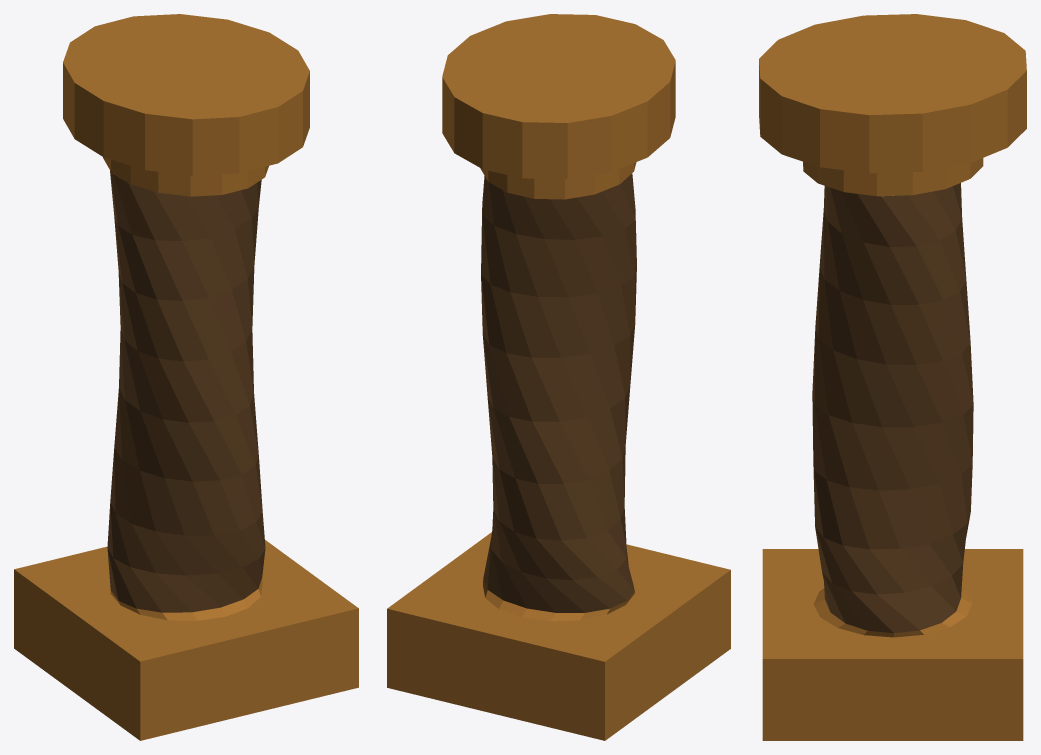
Rendered from Pillar_1.fbx.
3 renders of one model, left to right at view 1: azimuth 30°, elevation 25°; view 2: azimuth 150°, elevation 25°; view 3: azimuth 270°, elevation 25°, orthographic. The views are drawn at different scales.
Visible parts, largest first — view 1: pCube1; view 2: pCube1; view 3: pCube1.
Boxes of the visible parts, x1,y1,x2,y2 form: pCube1: (14, 14, 358, 740); pCube1: (387, 14, 730, 740); pCube1: (759, 14, 1026, 740).
Bounding box in the file's own units: 1 × 2.63 × 1.03.
